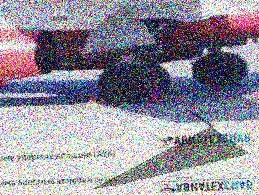chock: (143, 90, 171, 103), (86, 92, 111, 105)
wheel: (96, 61, 159, 105), (188, 51, 250, 88)
